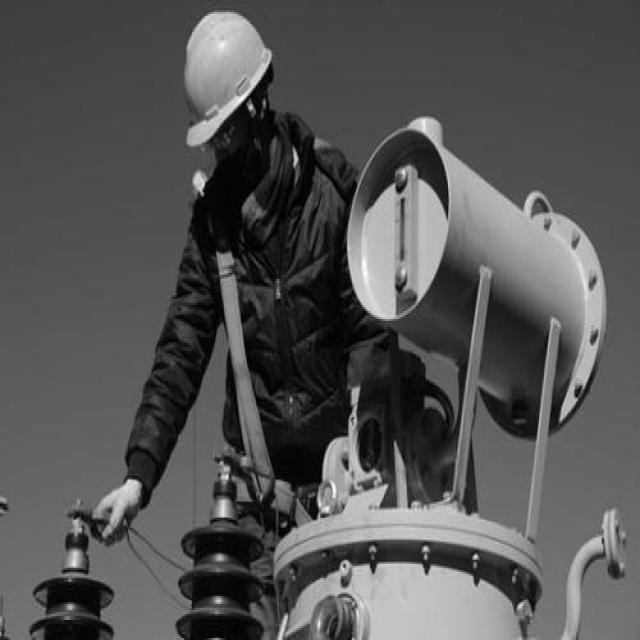head: (172, 2, 286, 191)
